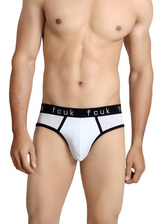clothoes: (36, 102, 128, 164)
